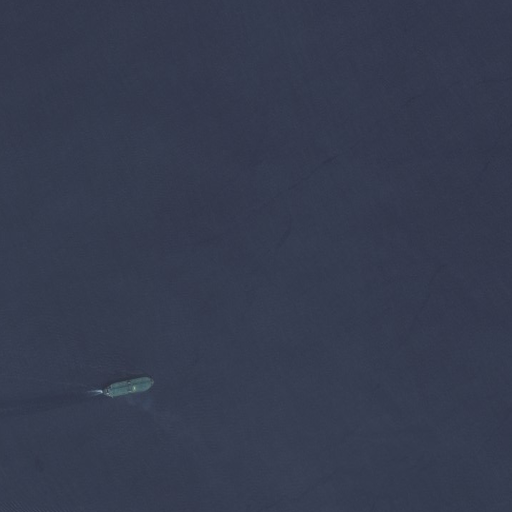ship: (97, 375, 158, 399)
